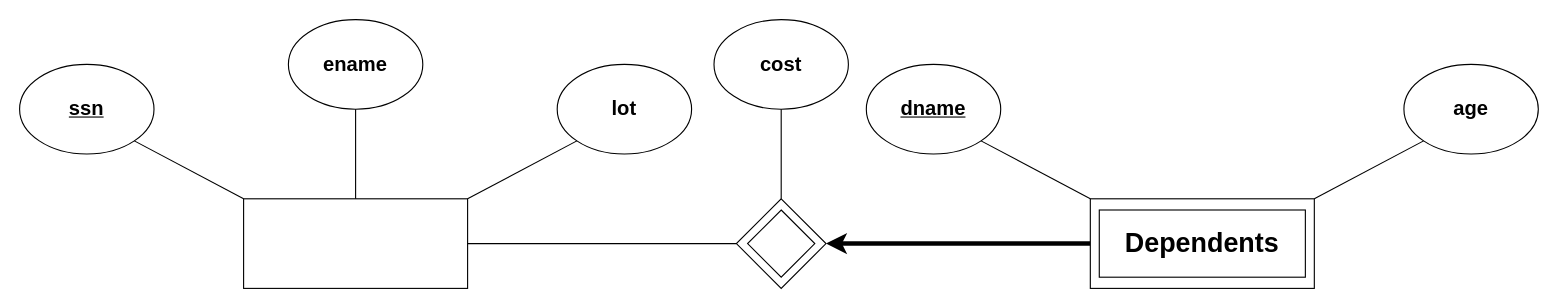
Some shapes in this 1558 by 308 pixel diagram are drawn without their labels. The shapes that lost their labels are listed below. From the top down, each one's box as (x1, y1, x2, y2) in pixels, then its label:
(242, 198, 468, 288): Employees
(735, 198, 826, 288): Manages
(746, 209, 815, 277): Policy
